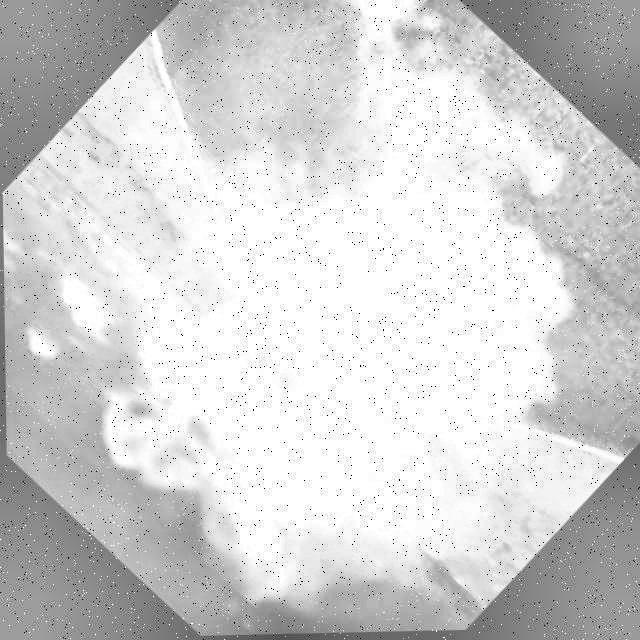Smoke: (3, 0, 640, 635)
